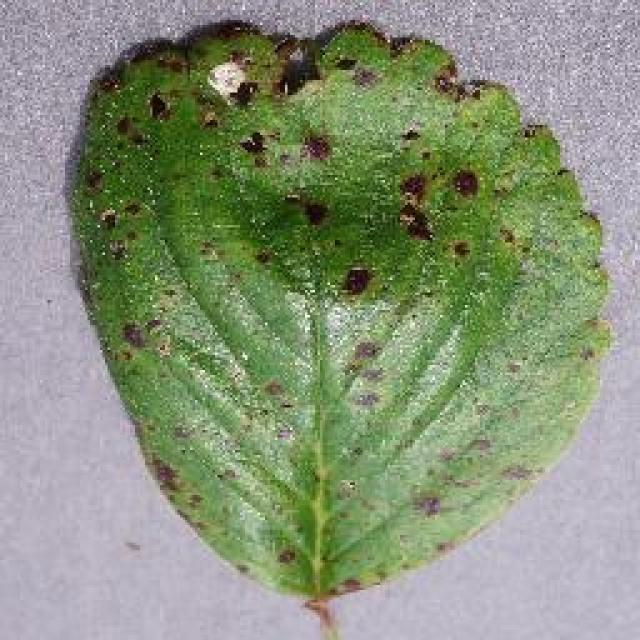Strawberry leaf scorch: (73, 23, 597, 445)
